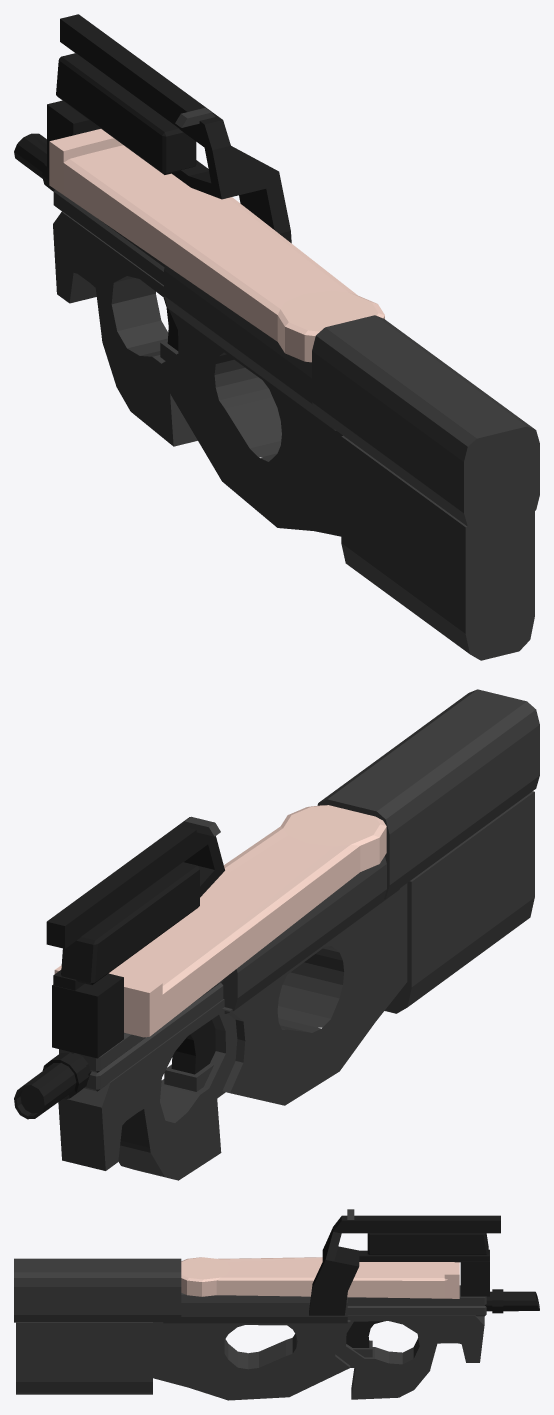
Rendered from submachine_gun.glb.
The picture shows the model from 3 angles, top to bottom: view 1: azimuth 30°, elevation 25°; view 2: azimuth 150°, elevation 25°; view 3: azimuth 270°, elevation 25°; orthographic projection. The views are drawn at different scales.
Visible parts, largest first — view 1: SMG_03_Cylinder.001_0425fa, SMG_03_Cylinder.001_5a3c0c, SMG_03_Cylinder.001_43e7b8; view 2: SMG_03_Cylinder.001_0425fa, SMG_03_Cylinder.001_5a3c0c, SMG_03_Cylinder.001_43e7b8; view 3: SMG_03_Cylinder.001_0425fa, SMG_03_Cylinder.001_43e7b8, SMG_03_Cylinder.001_5a3c0c.
Part boxes in pixels (left/top/right/bottom): SMG_03_Cylinder.001_0425fa: left=53, top=107, right=539, bottom=660; SMG_03_Cylinder.001_5a3c0c: left=49, top=129, right=384, bottom=362; SMG_03_Cylinder.001_43e7b8: left=14, top=14, right=291, bottom=350; SMG_03_Cylinder.001_0425fa: left=58, top=689, right=539, bottom=1180; SMG_03_Cylinder.001_5a3c0c: left=54, top=805, right=386, bottom=1037; SMG_03_Cylinder.001_43e7b8: left=14, top=817, right=224, bottom=1119; SMG_03_Cylinder.001_0425fa: left=14, top=1209, right=486, bottom=1400; SMG_03_Cylinder.001_43e7b8: left=309, top=1215, right=539, bottom=1347; SMG_03_Cylinder.001_5a3c0c: left=181, top=1257, right=459, bottom=1298.
Size of the model in its own units: 0.2751 by 0.8 by 2.11.
